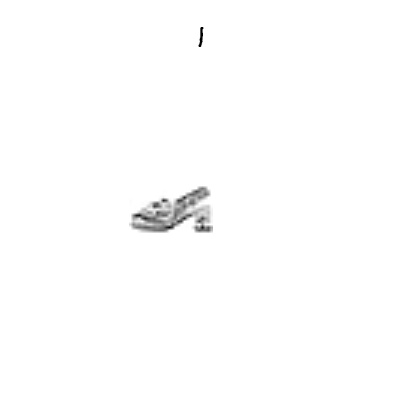1: (187, 23, 215, 51)
Sandal: (129, 166, 213, 250)
